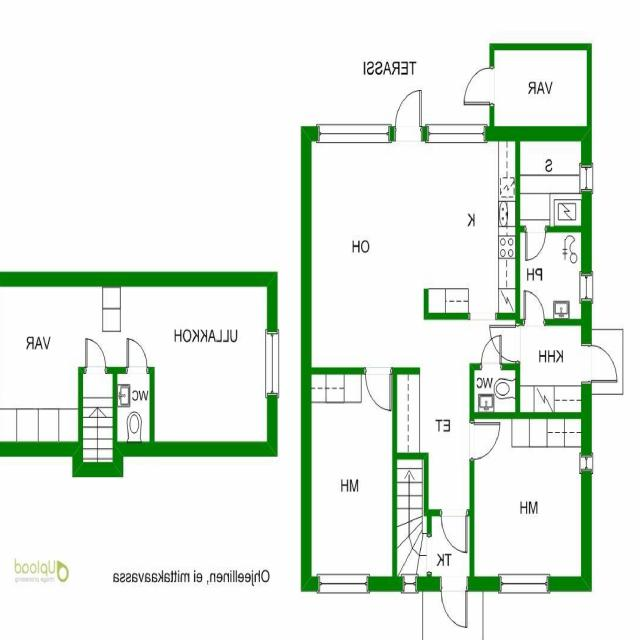door: (441, 576, 467, 628), (581, 345, 617, 381), (396, 91, 420, 141), (470, 423, 500, 459), (490, 326, 520, 362), (465, 69, 495, 105), (366, 367, 391, 410), (442, 509, 466, 552), (524, 290, 544, 326), (526, 225, 546, 260), (127, 338, 147, 373), (482, 336, 502, 370), (87, 339, 106, 374)
